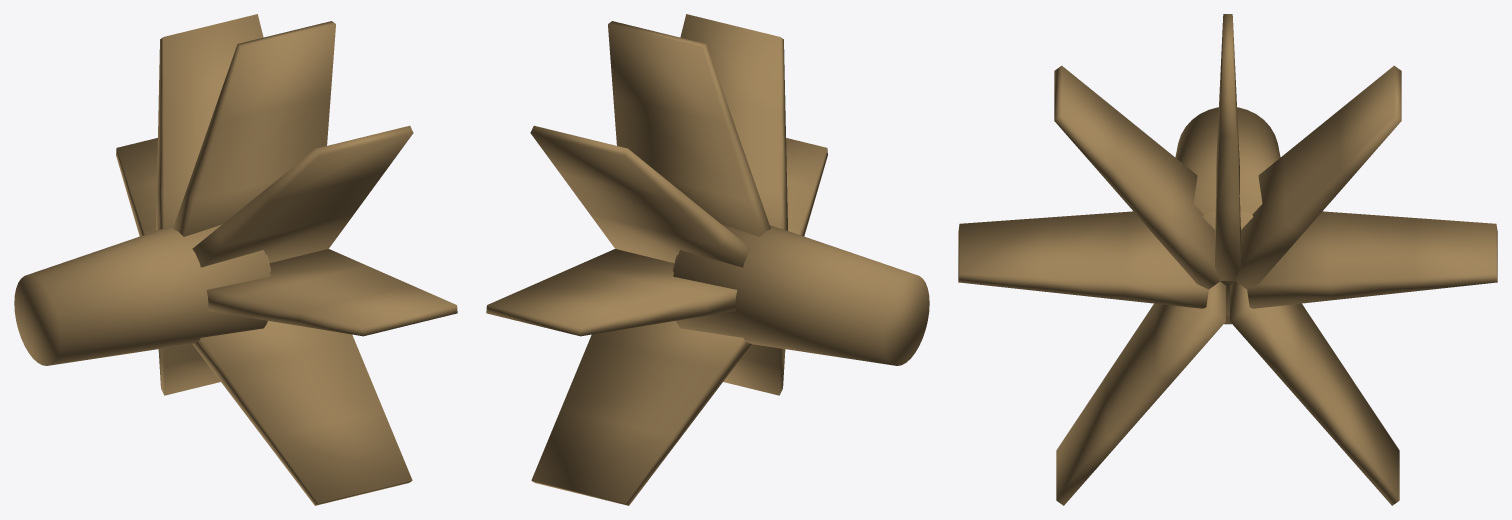
Rendered from FR_SSN_Rubis_PROPULSOR_01.fbx.
The picture shows the model from 3 angles, left to right: view 1: azimuth 30°, elevation 25°; view 2: azimuth 150°, elevation 25°; view 3: azimuth 270°, elevation 25°; orthographic projection. The views are drawn at different scales.
Visible parts, largest first — view 1: FR_SSN_Rubis_PROPULSOR_01; view 2: FR_SSN_Rubis_PROPULSOR_01; view 3: FR_SSN_Rubis_PROPULSOR_01.
Boxes of the visible parts, box(x1,y1,x2,y2) form: FR_SSN_Rubis_PROPULSOR_01: box(14, 14, 457, 505); FR_SSN_Rubis_PROPULSOR_01: box(486, 14, 929, 505); FR_SSN_Rubis_PROPULSOR_01: box(958, 14, 1497, 505).
Size of the model in its own units: 2.2 by 3.18 by 2.88.
